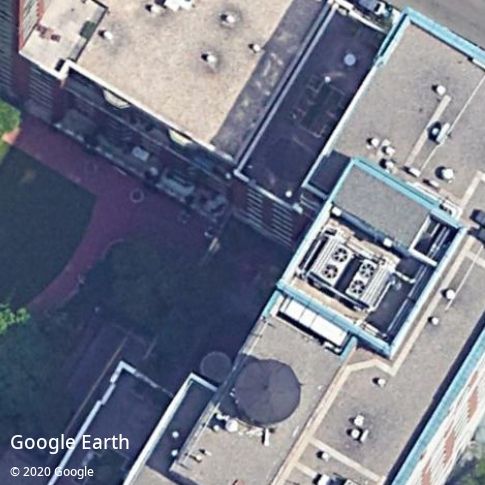Vent: (360, 263, 375, 278), (334, 248, 348, 262), (351, 280, 365, 294), (324, 265, 338, 278)
